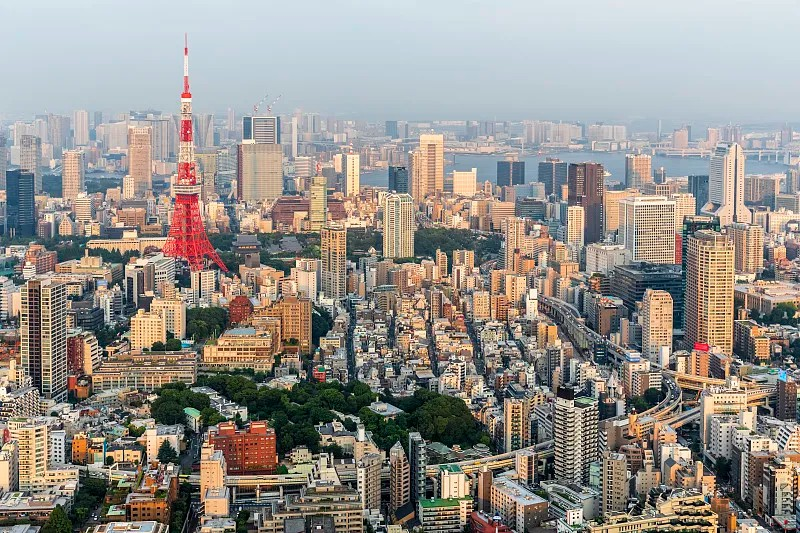Tokyo: (155, 30, 229, 274)
